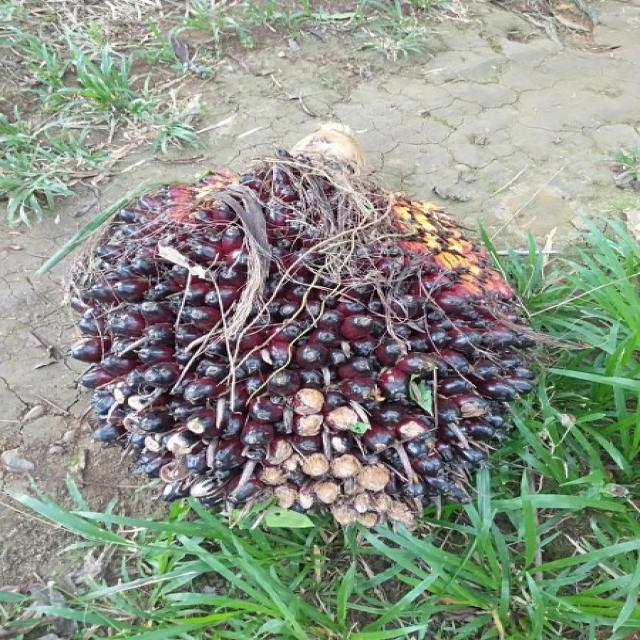fraksi 00: (63, 161, 544, 530)
